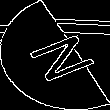N_NE: (14, 26, 96, 84)
